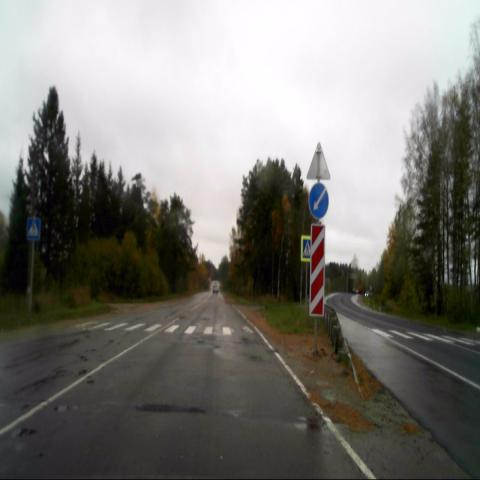4_2_2: (309, 183, 329, 221)
5_19_1: (27, 216, 41, 241), (301, 234, 313, 260)
